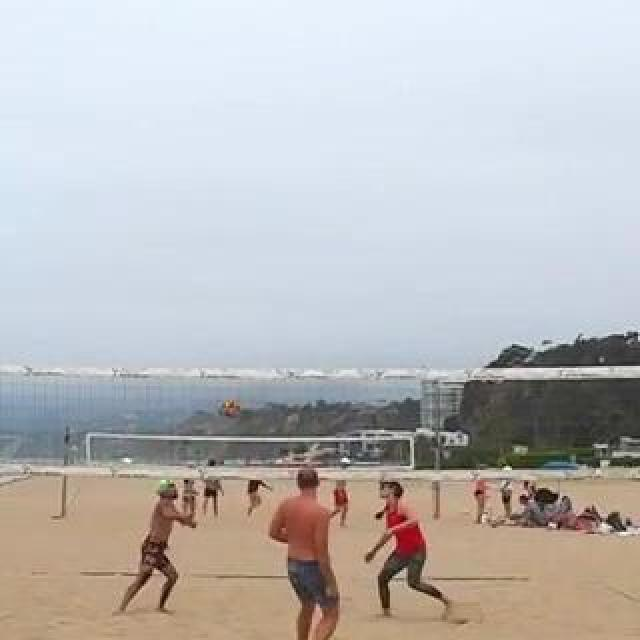volleyball: (222, 397, 242, 419)
